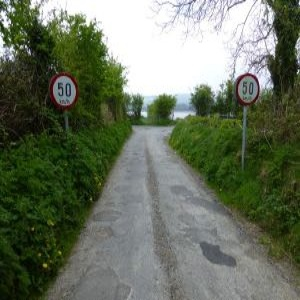50 speed: (49, 73, 79, 109), (236, 74, 260, 106)
